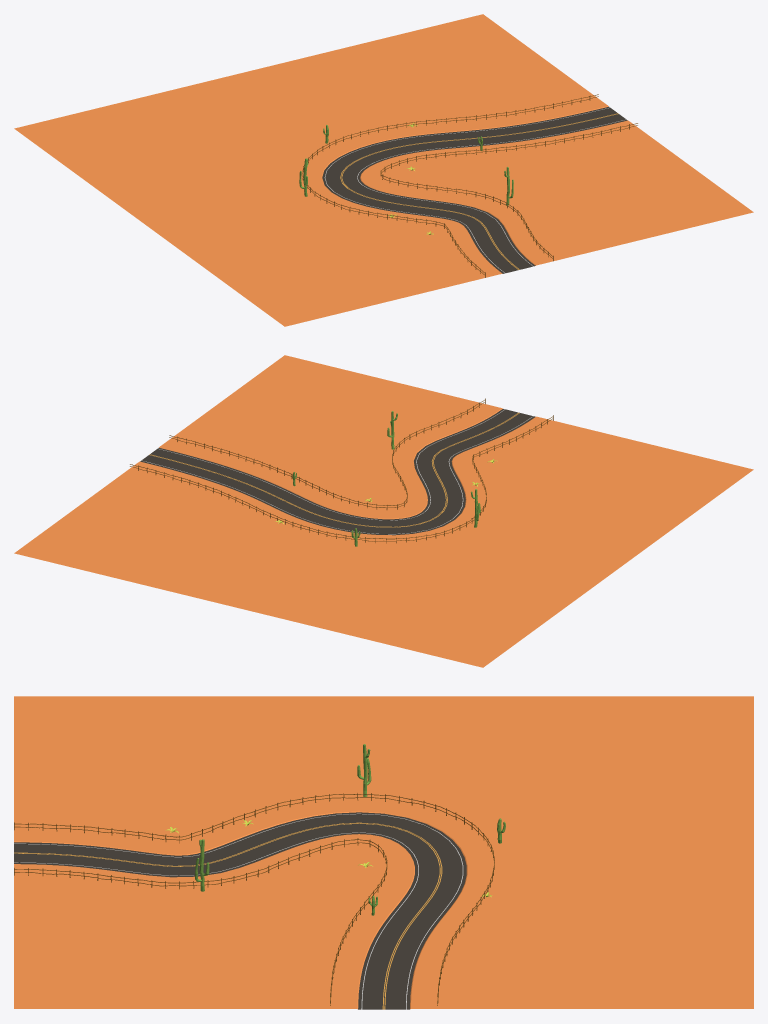
Rendered from DesertRoadLeft6.fbx.
3 renders of one model, top to bottom at view 1: azimuth 30°, elevation 25°; view 2: azimuth 150°, elevation 25°; view 3: azimuth 270°, elevation 25°, orthographic. The views are drawn at different scales.
Parts seen in each view (by area): view 1: DRL6Road, DRL6WoodFenceRight, DRL6WoodFenceLeft; view 2: DRL6Road, DRL6WoodFenceRight, DRL6WoodFenceLeft; view 3: DRL6Road, DRL6WoodFenceRight, DRL6WoodFenceLeft.
Boxes of the visible parts, <box> form: DRL6Road: <box>14,14,753,326</box>; DRL6WoodFenceRight: <box>302,94,598,277</box>; DRL6WoodFenceLeft: <box>380,123,637,261</box>; DRL6Road: <box>14,355,753,667</box>; DRL6WoodFenceRight: <box>130,415,553,543</box>; DRL6WoodFenceLeft: <box>169,398,485,509</box>; DRL6Road: <box>14,696,753,1009</box>; DRL6WoodFenceRight: <box>14,793,494,1005</box>; DRL6WoodFenceLeft: <box>14,838,387,1005</box>.
Size of what is drawn, in the model's own units: 20000 by 1581 by 20001.
